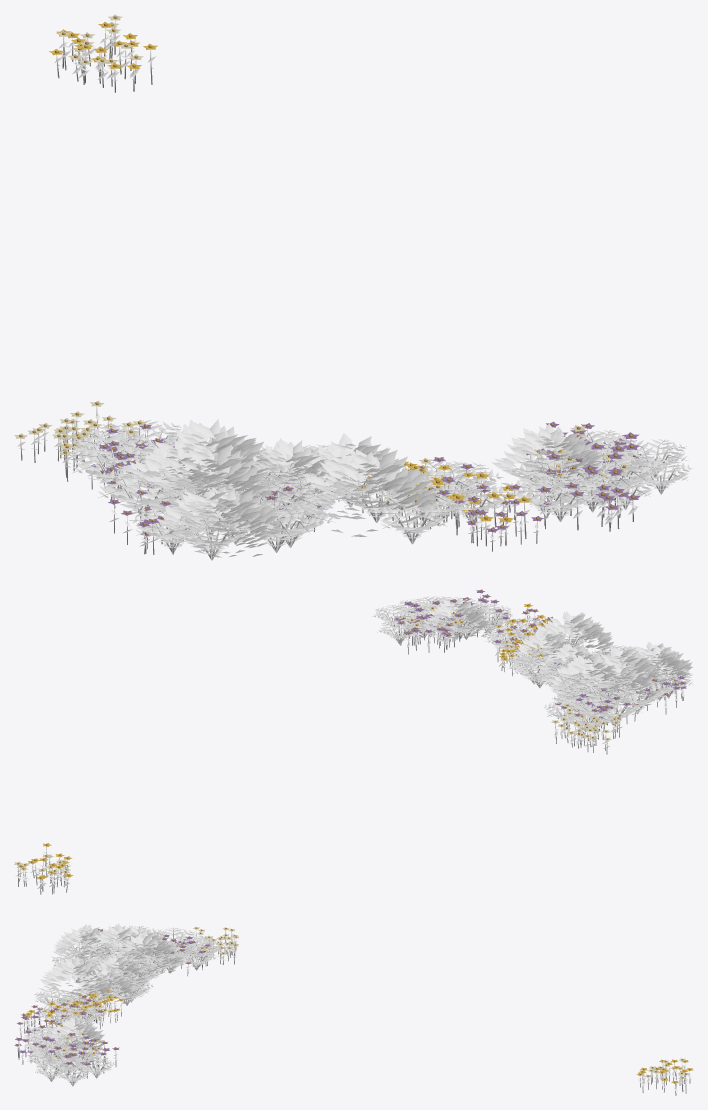
Rendered from SM_DF_Nature_2_2_Flora.fbx.
3 renders of one model, top to bottom at view 1: azimuth 30°, elevation 25°; view 2: azimuth 150°, elevation 25°; view 3: azimuth 270°, elevation 25°, orthographic. The views are drawn at different scales.
Parts seen in each view (by area): view 1: SM_DF_Nature_2_2_Flora; view 2: SM_DF_Nature_2_2_Flora; view 3: SM_DF_Nature_2_2_Flora.
Boxes of the visible parts, <box> form: SM_DF_Nature_2_2_Flora: <box>14,14,693,560</box>; SM_DF_Nature_2_2_Flora: <box>14,589,693,894</box>; SM_DF_Nature_2_2_Flora: <box>14,923,693,1095</box>.
Size of the model in its own units: 955 by 1935 by 162.
